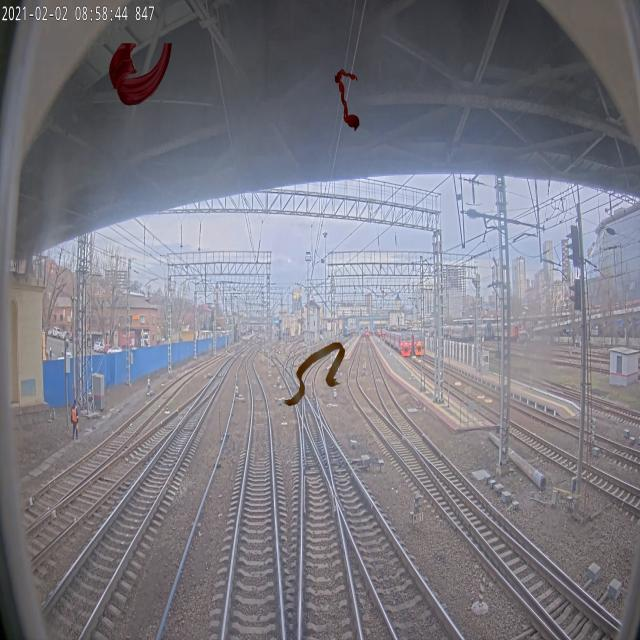floating object: (109, 41, 172, 106), (284, 342, 346, 406), (334, 67, 360, 132)
